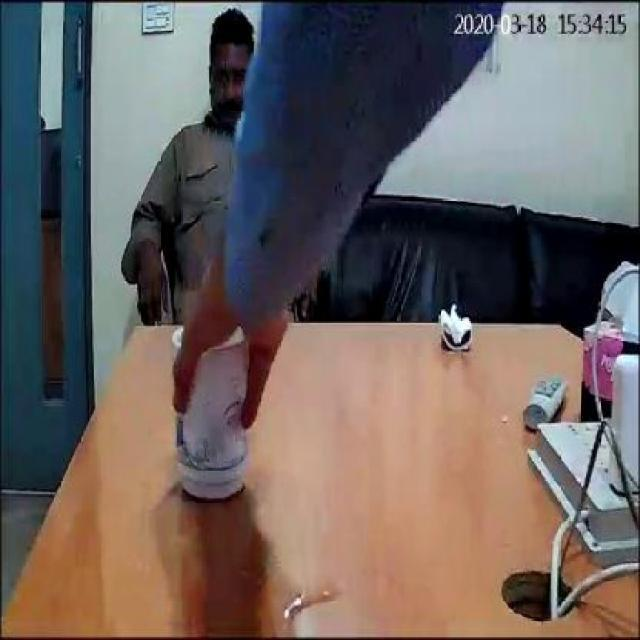spill: (208, 528, 340, 627)
